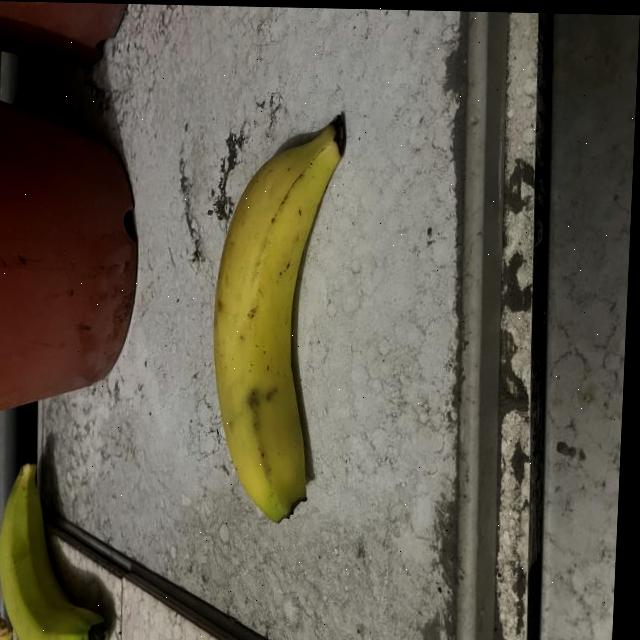banana: (202, 109, 345, 527)
